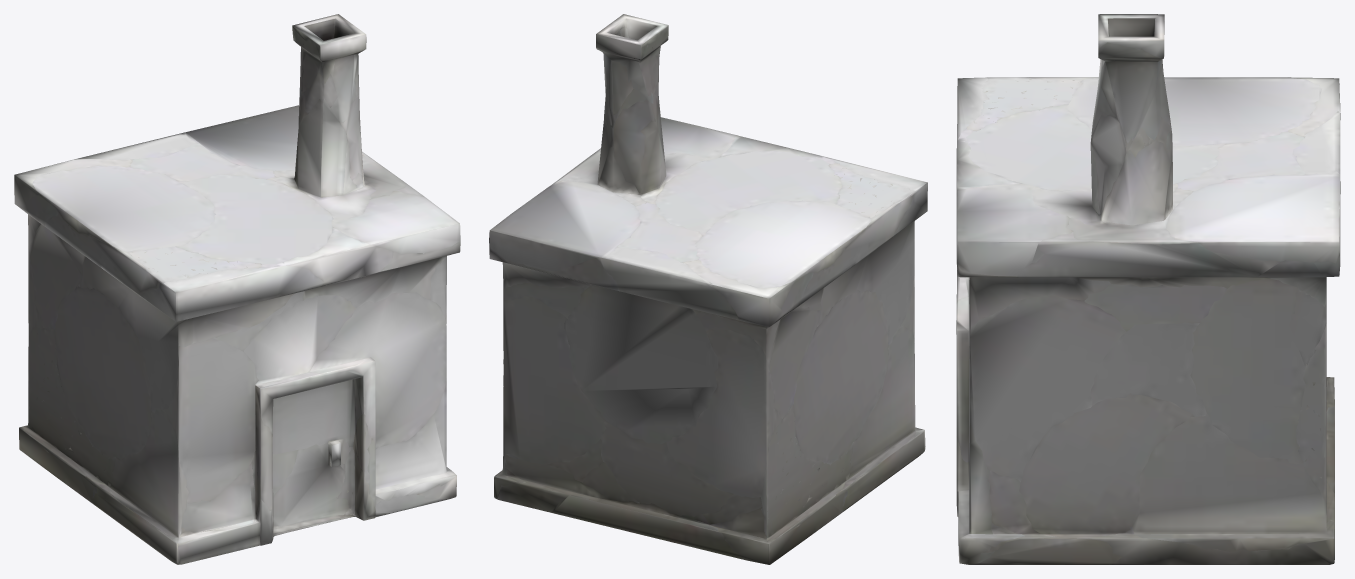
File: workshop.glb
The picture shows the model from 3 angles, left to right: view 1: azimuth 30°, elevation 25°; view 2: azimuth 150°, elevation 25°; view 3: azimuth 270°, elevation 25°; orthographic projection. The views are drawn at different scales.
Parts seen in each view (by area): view 1: node_0; view 2: node_0; view 3: node_0.
Boxes of the visible parts, x1,y1,x2,y2 form: node_0: (14, 14, 460, 564); node_0: (489, 14, 927, 564); node_0: (956, 14, 1340, 564).
Size of the model in its own units: 0.6053 by 0.8671 by 0.5961.
Materials: 1 (1 with a texture image).
